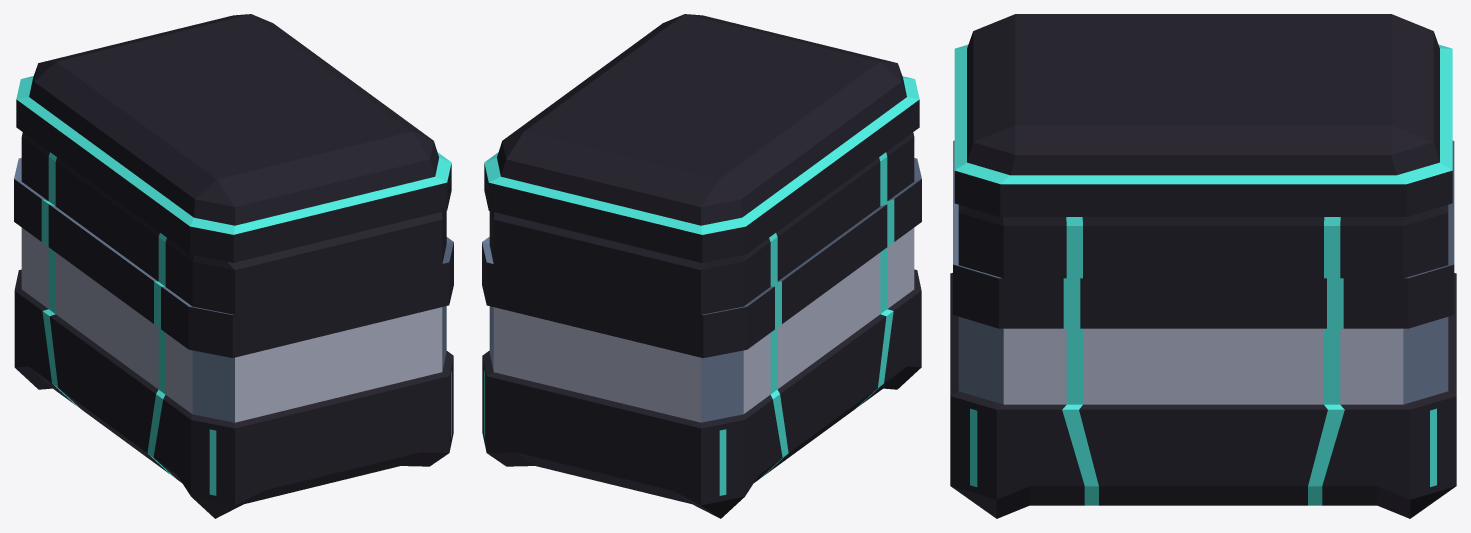
The model's file is SKIN BOX.fbx.
3 renders of one model, left to right at view 1: azimuth 30°, elevation 25°; view 2: azimuth 150°, elevation 25°; view 3: azimuth 270°, elevation 25°, orthographic. The views are drawn at different scales.
Parts seen in each view (by area): view 1: Cube, Cube.001; view 2: Cube, Cube.001; view 3: Cube, Cube.001.
Part boxes in pixels (x1,y1,x2,y2): Cube: (14, 132, 453, 518); Cube.001: (16, 14, 451, 262); Cube: (482, 132, 921, 518); Cube.001: (484, 14, 919, 262); Cube: (950, 140, 1456, 518); Cube.001: (954, 14, 1452, 216).
Bounding box in the file's own units: 196 × 235 × 277.
